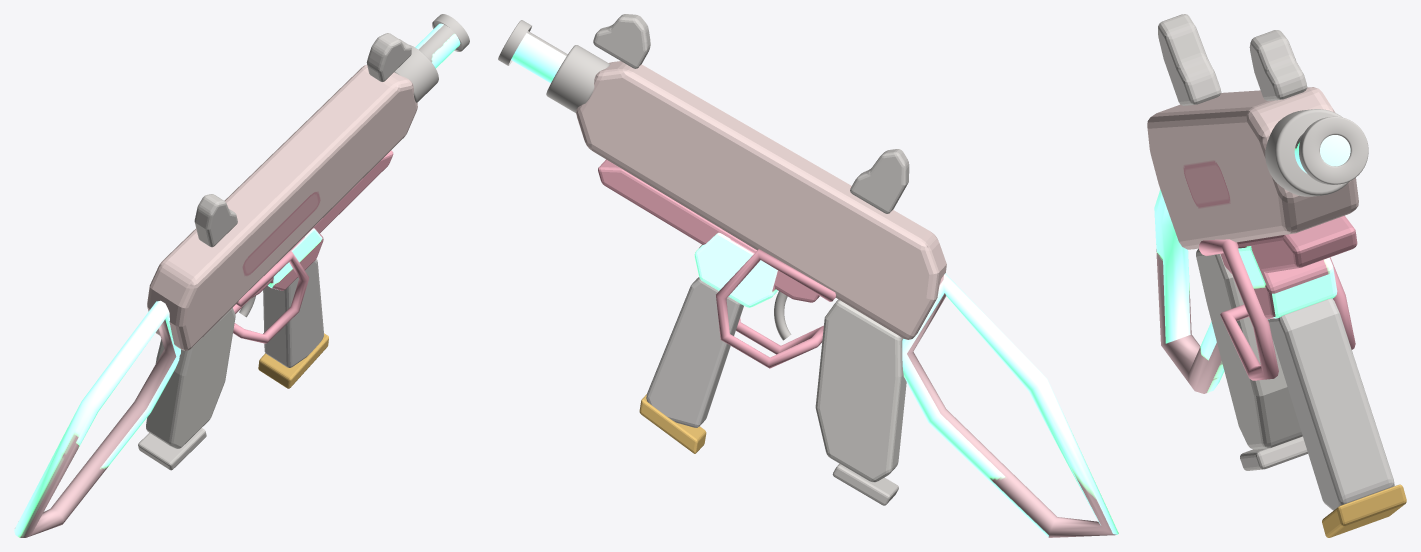
The picture shows the model from 3 angles, left to right: view 1: azimuth 30°, elevation 25°; view 2: azimuth 150°, elevation 25°; view 3: azimuth 270°, elevation 25°; orthographic projection. The views are drawn at different scales.
Visible parts, largest first — view 1: gun.receiver__LOD0, gun.stock.frame__LOD0, gun.grip__LOD0, gun.magazine__LOD0, gun.trigger_guard__LOD0, gun.sight.rear__LOD0, gun.sight.front__LOD0, gun.grip.cap__LOD0, gun.magwell__LOD0, gun.barrel.collar__LOD0, gun.magazine.floorplate__LOD0, gun.barrel__LOD0 (+2 smaller); view 2: gun.receiver__LOD0, gun.grip__LOD0, gun.stock.frame__LOD0, gun.magazine__LOD0, gun.forearm.underbar__LOD0, gun.trigger_guard__LOD0, gun.magwell__LOD0, gun.sight.rear__LOD0, gun.barrel.collar__LOD0, gun.sight.front__LOD0, gun.barrel__LOD0, gun.magazine.floorplate__LOD0 (+1 smaller); view 3: gun.receiver__LOD0, gun.magazine__LOD0, gun.grip__LOD0, gun.stock.frame__LOD0, gun.trigger_guard__LOD0, gun.magwell__LOD0, gun.forearm.underbar__LOD0, gun.sight.rear__LOD0, gun.barrel.collar__LOD0, gun.muzzle__LOD0, gun.sight.front__LOD0, gun.magazine.floorplate__LOD0 (+2 smaller).
Boxes of the visible parts, bbox=[...] form: gun.receiver__LOD0: bbox=[147, 65, 417, 350]; gun.stock.frame__LOD0: bbox=[14, 300, 180, 537]; gun.grip__LOD0: bbox=[146, 307, 235, 448]; gun.magazine__LOD0: bbox=[263, 259, 323, 367]; gun.trigger_guard__LOD0: bbox=[233, 250, 309, 343]; gun.sight.rear__LOD0: bbox=[194, 194, 237, 247]; gun.sight.front__LOD0: bbox=[366, 33, 411, 81]; gun.grip.cap__LOD0: bbox=[138, 428, 206, 470]; gun.magwell__LOD0: bbox=[267, 228, 323, 290]; gun.barrel.collar__LOD0: bbox=[394, 45, 438, 102]; gun.magazine.floorplate__LOD0: bbox=[258, 333, 328, 388]; gun.barrel__LOD0: bbox=[415, 23, 460, 68]; gun.receiver__LOD0: bbox=[576, 61, 946, 339]; gun.grip__LOD0: bbox=[815, 299, 906, 482]; gun.stock.frame__LOD0: bbox=[902, 273, 1118, 537]; gun.magazine__LOD0: bbox=[646, 277, 743, 427]; gun.forearm.underbar__LOD0: bbox=[598, 159, 819, 302]; gun.trigger_guard__LOD0: bbox=[716, 249, 835, 368]; gun.magwell__LOD0: bbox=[694, 232, 778, 307]; gun.sight.rear__LOD0: bbox=[850, 149, 909, 213]; gun.barrel.collar__LOD0: bbox=[546, 45, 610, 112]; gun.sight.front__LOD0: bbox=[593, 14, 650, 68]; gun.barrel__LOD0: bbox=[511, 31, 567, 83]; gun.magazine.floorplate__LOD0: bbox=[639, 394, 706, 453]; gun.receiver__LOD0: bbox=[1147, 87, 1358, 249]; gun.magazine__LOD0: bbox=[1268, 298, 1394, 510]; gun.grip__LOD0: bbox=[1196, 248, 1302, 449]; gun.stock.frame__LOD0: bbox=[1154, 189, 1224, 393]; gun.trigger_guard__LOD0: bbox=[1199, 239, 1355, 380]; gun.magwell__LOD0: bbox=[1238, 246, 1337, 319]; gun.forearm.underbar__LOD0: bbox=[1220, 215, 1357, 273]; gun.sight.rear__LOD0: bbox=[1158, 14, 1221, 105]; gun.barrel.collar__LOD0: bbox=[1265, 109, 1349, 196]; gun.muzzle__LOD0: bbox=[1299, 116, 1368, 184]; gun.sight.front__LOD0: bbox=[1249, 30, 1307, 100]; gun.magazine.floorplate__LOD0: bbox=[1322, 484, 1406, 537].
Size of the model in its own units: 1.25 by 0.9363 by 0.3438.
